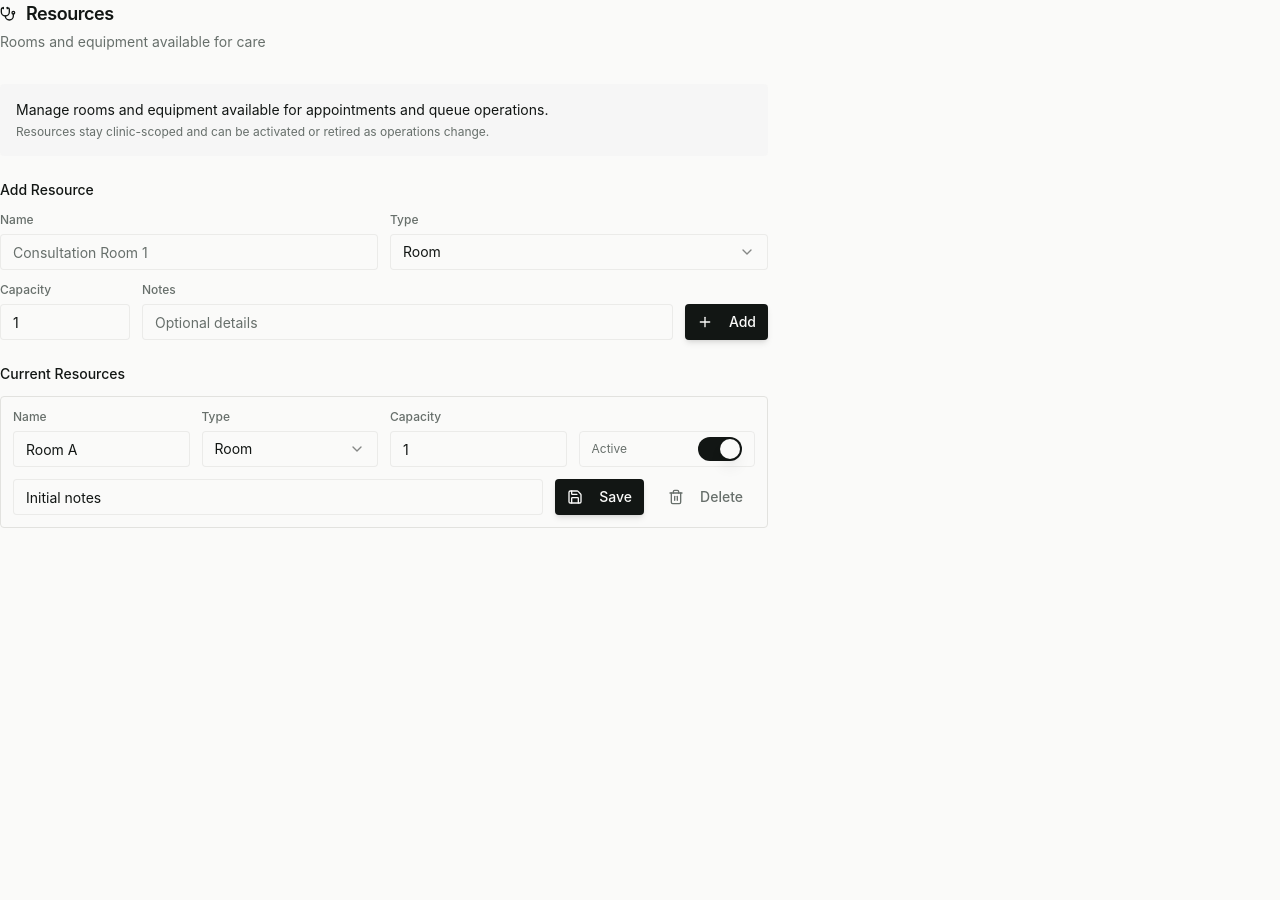
ClinicSettings resources › requires confirmation before deleting a resource
Expected: the field showing "Room A" in the row of "Active" is shown, [13, 431, 190, 467]
Click the button "Delete" at (706, 497), box [656, 479, 755, 515]
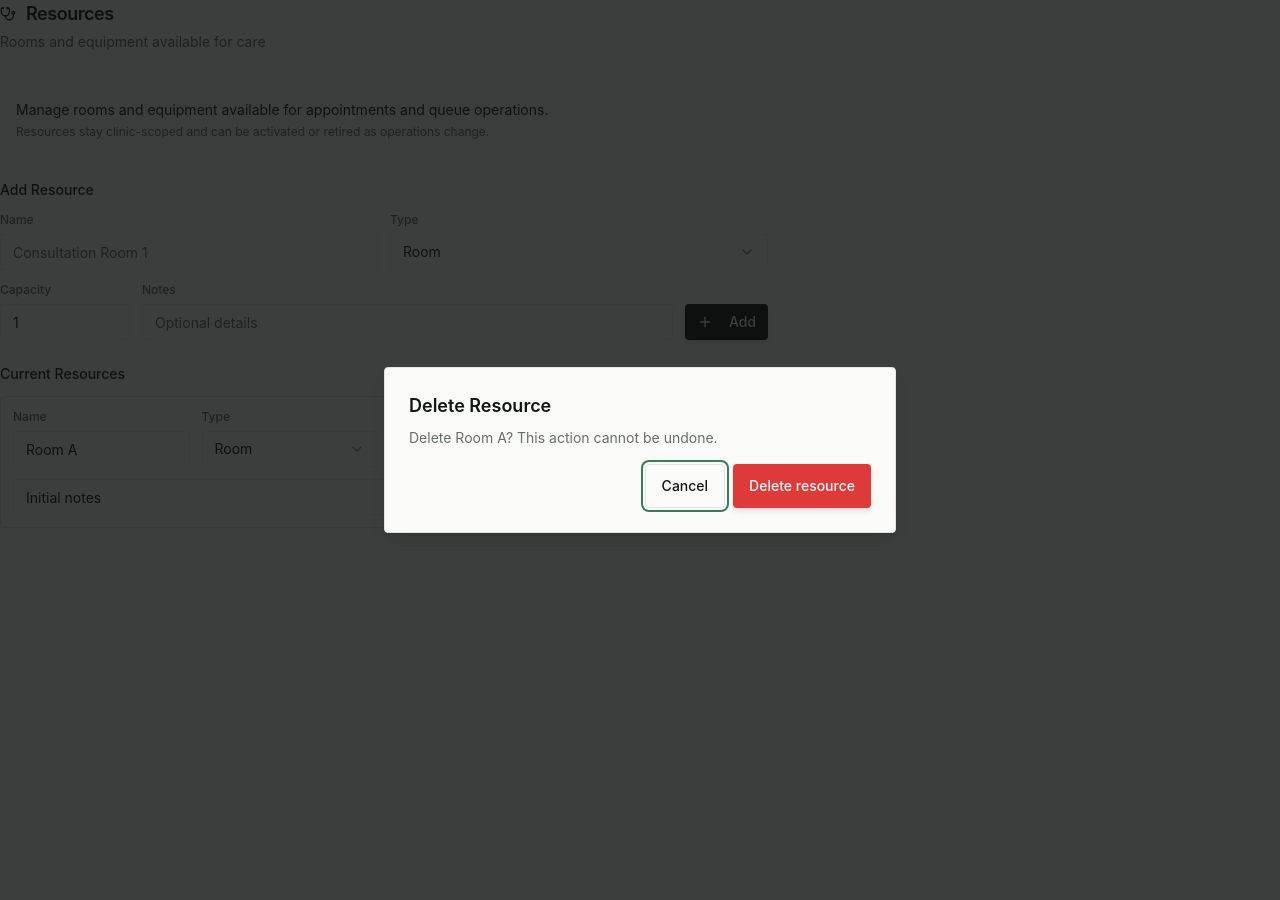
Now the heading "Delete Resource" is shown, box [409, 395, 551, 416]
Click the button "Cancel" at (685, 486), box [645, 464, 725, 508]
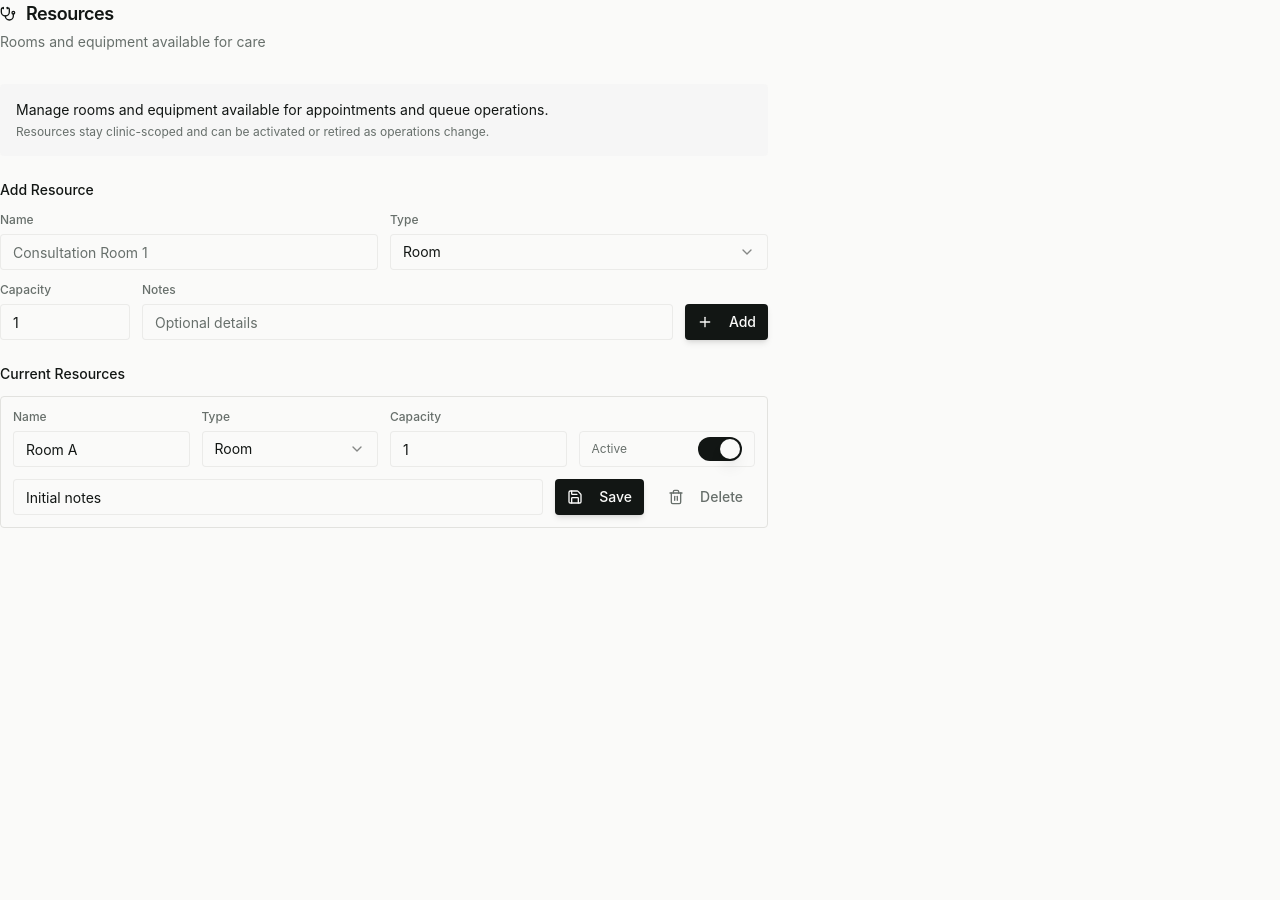
Click the button "Delete" at (706, 497), box [656, 479, 755, 515]
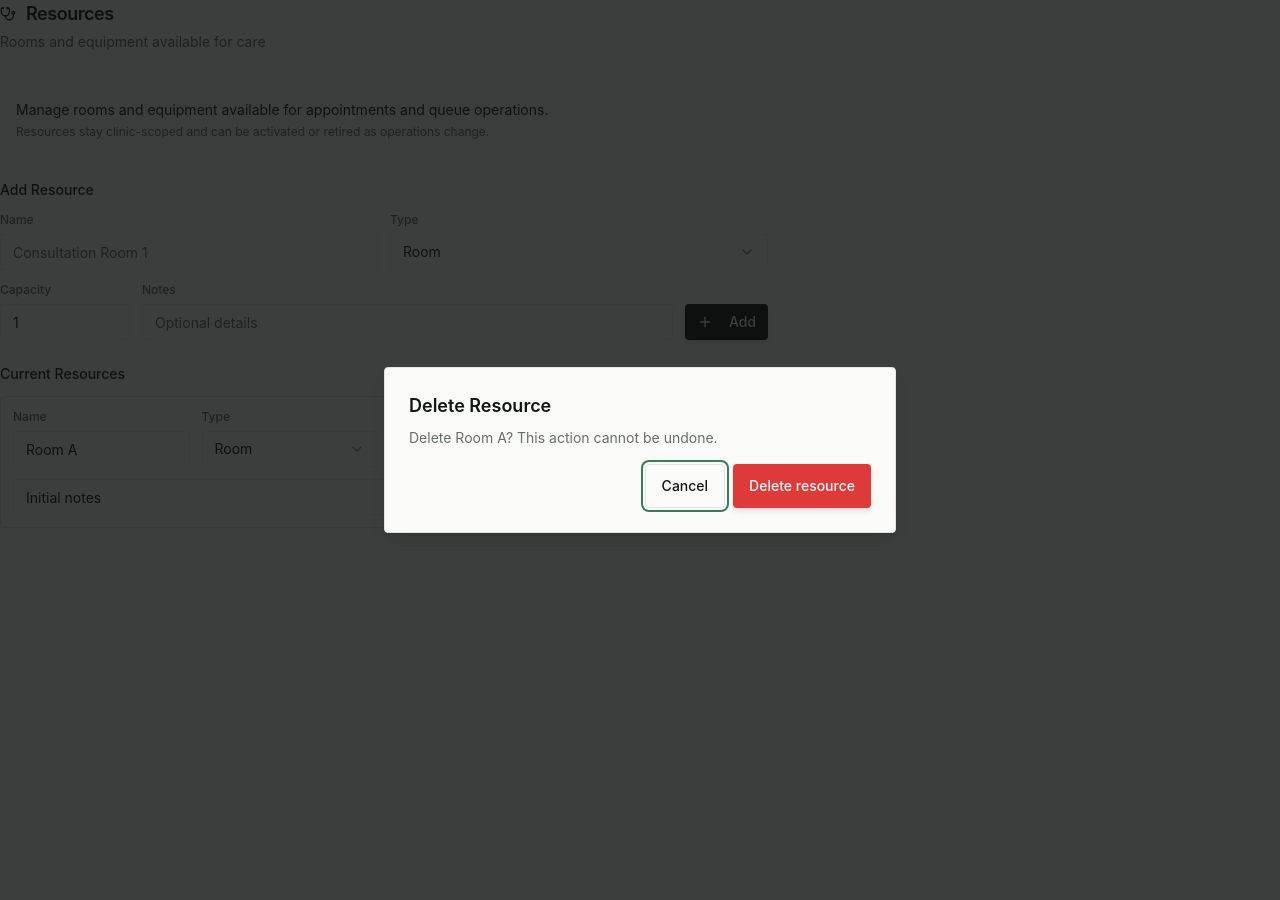
Click the button "Delete resource" at (802, 486), box [733, 464, 871, 508]
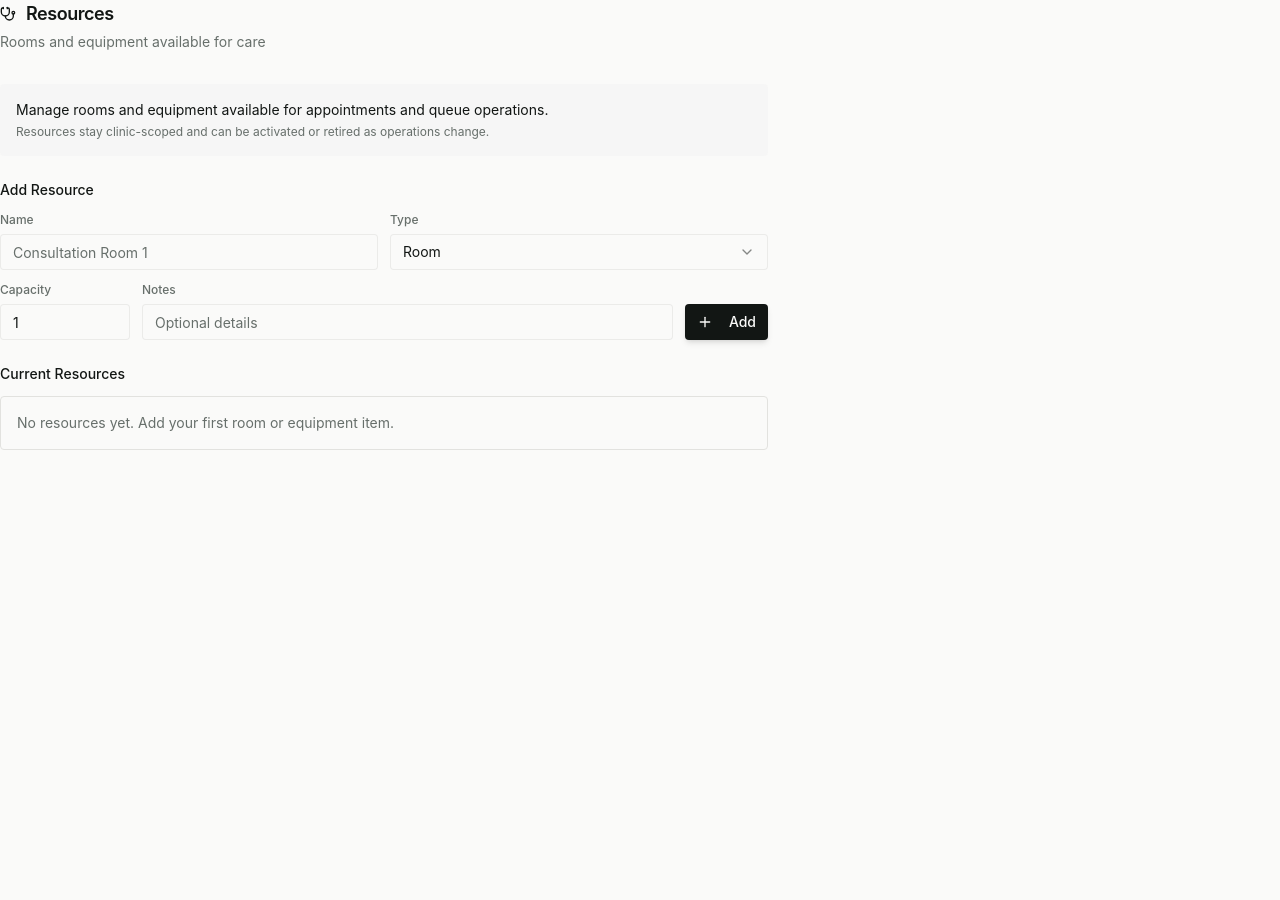
Now the text showing "Room A" is gone
